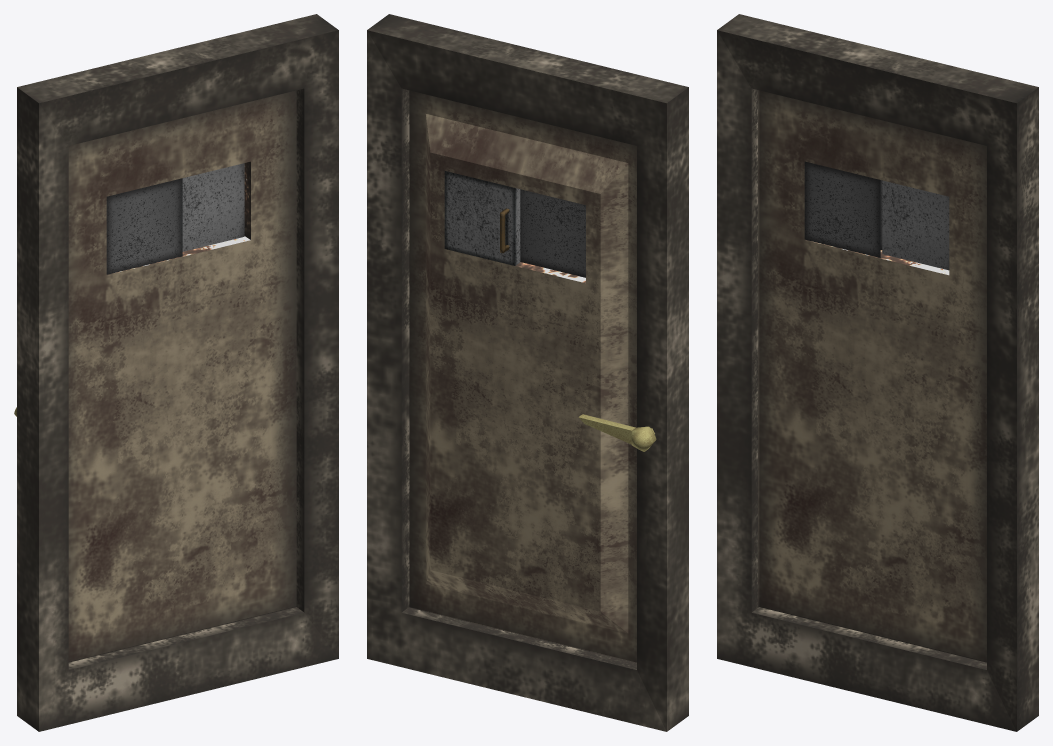
The model's file is Mental_Hospital_Door.fbx.
The picture shows the model from 3 angles, left to right: view 1: azimuth 30°, elevation 25°; view 2: azimuth 150°, elevation 25°; view 3: azimuth 330°, elevation 25°; orthographic projection.
Parts seen in each view (by area): view 1: polySurface116, polySurface113, polySurface117; view 2: polySurface116, polySurface117, polySurface115; view 3: polySurface116, polySurface113, polySurface117.
Boxes of the visible parts, x1,y1,x2,y2 form: polySurface116: (17,14,338,731); polySurface113: (106,178,182,274); polySurface117: (182,163,244,251); polySurface116: (367,14,688,731); polySurface117: (444,171,520,265); polySurface115: (578,414,656,451); polySurface116: (717,14,1038,731); polySurface113: (804,161,880,257); polySurface117: (882,180,949,270).
Bounding box in the file's own units: 6.92 × 13.86 × 1.42.
2 materials, 2 textured.
